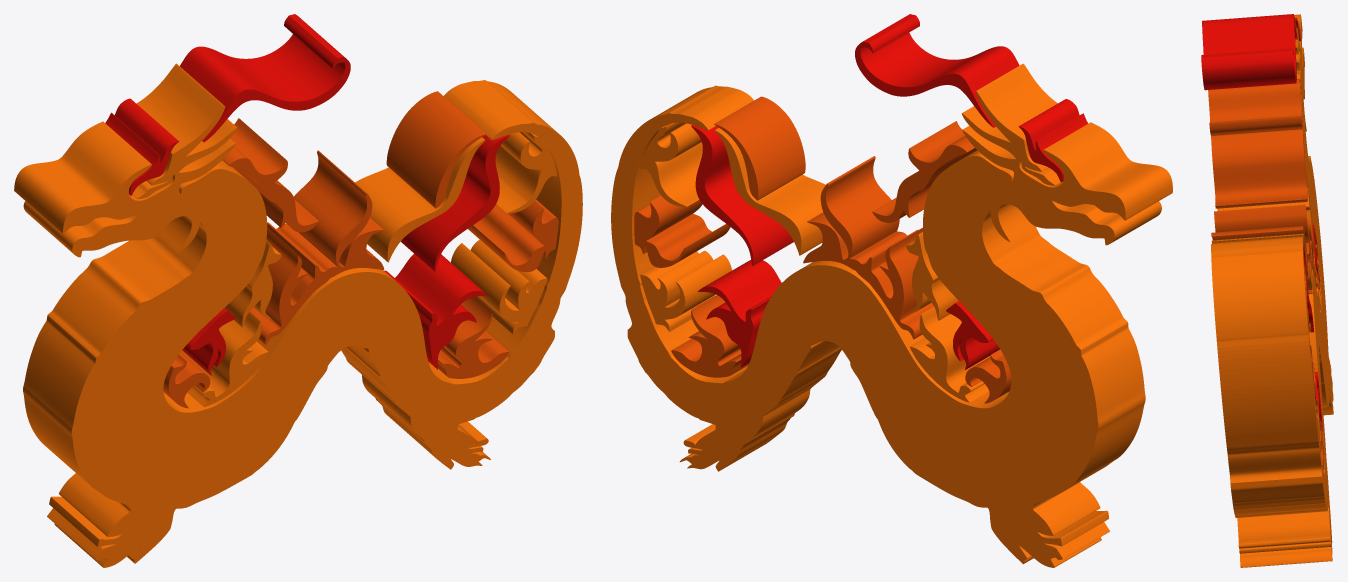
Rendered from AsiaDragon.fbx.
3 renders of one model, left to right at view 1: azimuth 30°, elevation 25°; view 2: azimuth 150°, elevation 25°; view 3: azimuth 270°, elevation 25°, orthographic. The views are drawn at different scales.
Parts seen in each view (by area): view 1: Curve.001, Curve.007, Curve, Curve.004, Curve.012, Curve.005, Curve.006, Curve.014, Curve.003, Curve.009, Curve.011, Curve.015 (+4 smaller); view 2: Curve.001, Curve.007, Curve, Curve.004, Curve.006, Curve.005, Curve.014, Curve.012, Curve.009, Curve.003, Curve.011, Curve.015 (+4 smaller); view 3: Curve.001, Curve.003, Curve, Curve.007, Curve.004, Curve.005, Curve.008, Curve.006, Curve.012.
Part boxes in pixels (box(x1,y1,x2,y2)): Curve.001: box(14, 63, 582, 567); Curve.007: box(250, 150, 383, 344); Curve: box(180, 14, 350, 142); Curve.004: box(386, 91, 486, 208); Curve.012: box(384, 254, 487, 369); Curve.005: box(355, 137, 485, 262); Curve.006: box(401, 134, 509, 271); Curve.014: box(451, 239, 547, 333); Curve.003: box(222, 118, 318, 232); Curve.009: box(468, 199, 558, 271); Curve.011: box(181, 312, 268, 406); Curve.015: box(438, 297, 509, 378); Curve.001: box(611, 63, 1172, 567); Curve.007: box(803, 156, 933, 339); Curve: box(855, 14, 1019, 127); Curve.004: box(714, 96, 805, 200); Curve.006: box(691, 125, 793, 265); Curve.005: box(714, 128, 825, 255); Curve.014: box(640, 250, 731, 331); Curve.012: box(698, 260, 781, 367); Curve.009: box(634, 195, 730, 267); Curve.003: box(872, 121, 976, 222); Curve.011: box(910, 307, 990, 402); Curve.015: box(671, 295, 749, 377); Curve.001: box(1211, 14, 1333, 567); Curve.003: box(1208, 78, 1307, 208); Curve: box(1201, 14, 1297, 90); Curve.007: box(1214, 204, 1316, 293); Curve.004: box(1211, 226, 1308, 268); Curve.005: box(1211, 233, 1312, 289); Curve.008: box(1217, 188, 1314, 263); Curve.006: box(1303, 245, 1313, 332); Curve.012: box(1315, 372, 1322, 432).
Size of the model in its own units: 23.89 by 21.07 by 5.55.
